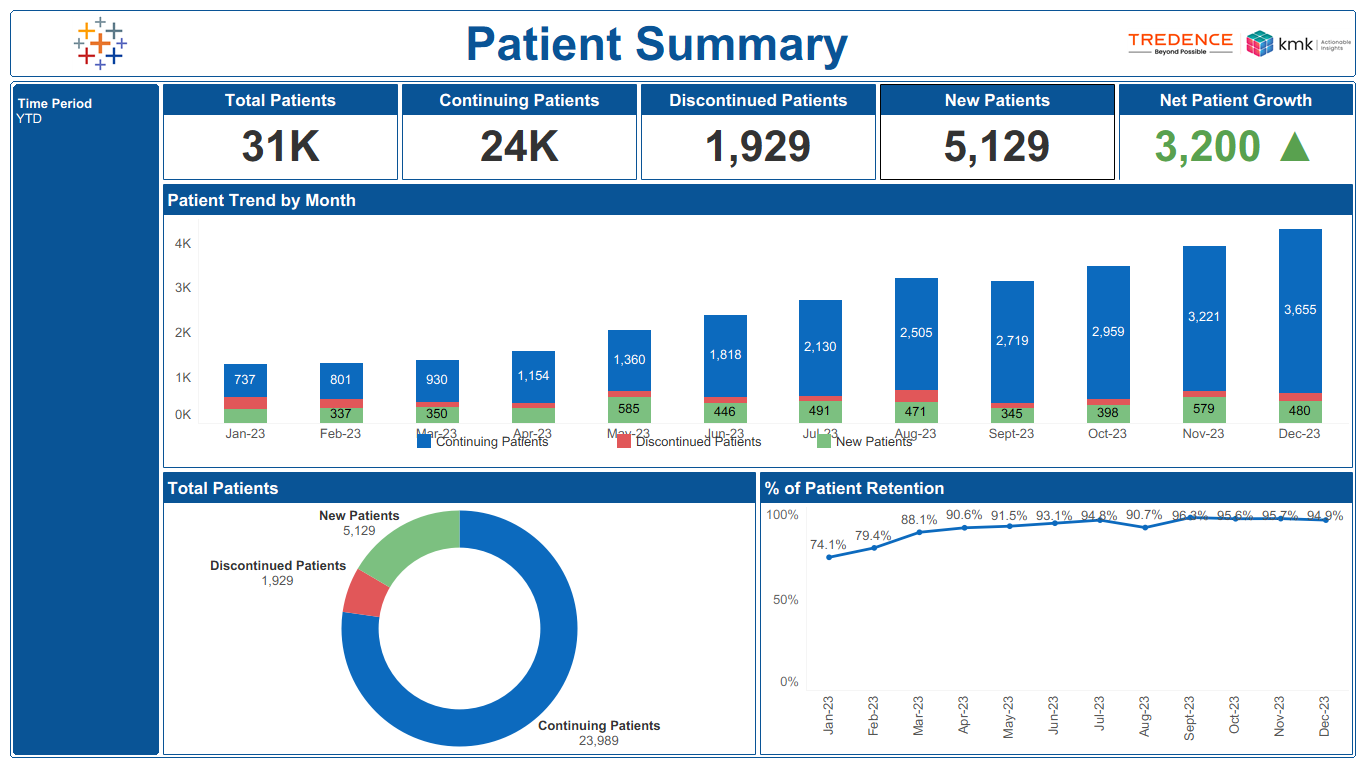

The page's visual inventory and layout, read from the dashboard file:
{"tool":"tableau","page":{"name":"Patient Summary","canvas":[1366,768],"ordinal":2},"visuals":[{"type":"image","param":"Image/Tableau.png","box":[11,11,180,65]},{"type":"text","box":[191,11,932,65]},{"type":"image","param":"Image/tredence-logo-kmk.png","box":[1123,11,232,65]},{"type":"parameter","param":"[Parameters].[Parameter 1025046070018058]","box":[14,85,144,52]},{"type":"text","box":[164,85,233,30]},{"type":"text","box":[403,85,233,30]},{"type":"text","box":[642,85,233,30]},{"type":"text","box":[881,85,233,30]},{"type":"text","box":[1120,85,232,30]},{"type":"worksheet","title":"KPI- Total Patients","mark":"Text","box":[164,115,233,64]},{"type":"worksheet","title":"KPI- Total Continuing Patients","mark":"Text","box":[403,115,233,64]},{"type":"worksheet","title":"KPI- Total Discontinued Patients","mark":"Text","box":[642,115,233,64]},{"type":"worksheet","title":"KPI- Total New Patients","mark":"Text","box":[881,115,233,64]},{"type":"worksheet","title":"KPI- patient growth","mark":"Text","box":[1120,115,232,64]},{"type":"text","box":[164,185,1188,30]},{"type":"worksheet","title":"Patient Trend","mark":"Bar","cols":["FINAL_MONTH_PATIENTS"],"box":[164,215,1188,231.5]},{"type":"legend","title":"Patient Trend","param":"[federated.0lpo7461ihcmnp0zxqhoc1q06l74].[:Measure Names]","box":[164,446.5,1188,20]},{"type":"text","box":[164,473,591,30]},{"type":"text","box":[761,473,591,30]},{"type":"worksheet","title":"Patient Mix","mark":"Pie","cols":["Calculation_1025046127218717","Calculation_1025046127263775"],"box":[164,503,591,251]},{"type":"worksheet","title":"Patient Retention","mark":"Line","rows":["Calculation_1025046122319895"],"cols":["FINAL_MONTH_PATIENTS"],"box":[761,503,591,251]}]}

Visuals, with their boxes in screenshot pixels (x1, y1, x2, y2), scaled from the page's 1366x768 canvas onto the 1366x768 screenshot:
image: l=11, t=11, r=191, b=76
text: l=191, t=11, r=1123, b=76
image: l=1123, t=11, r=1355, b=76
parameter: l=14, t=85, r=158, b=137
text: l=164, t=85, r=397, b=115
text: l=403, t=85, r=636, b=115
text: l=642, t=85, r=875, b=115
text: l=881, t=85, r=1114, b=115
text: l=1120, t=85, r=1352, b=115
"KPI- Total Patients" worksheet (Text marks): l=164, t=115, r=397, b=179
"KPI- Total Continuing Patients" worksheet (Text marks): l=403, t=115, r=636, b=179
"KPI- Total Discontinued Patients" worksheet (Text marks): l=642, t=115, r=875, b=179
"KPI- Total New Patients" worksheet (Text marks): l=881, t=115, r=1114, b=179
"KPI- patient growth" worksheet (Text marks): l=1120, t=115, r=1352, b=179
text: l=164, t=185, r=1352, b=215
"Patient Trend" worksheet (Bar marks): l=164, t=215, r=1352, b=446
"Patient Trend" legend: l=164, t=446, r=1352, b=466
text: l=164, t=473, r=755, b=503
text: l=761, t=473, r=1352, b=503
"Patient Mix" worksheet (Pie marks): l=164, t=503, r=755, b=754
"Patient Retention" worksheet (Line marks): l=761, t=503, r=1352, b=754
